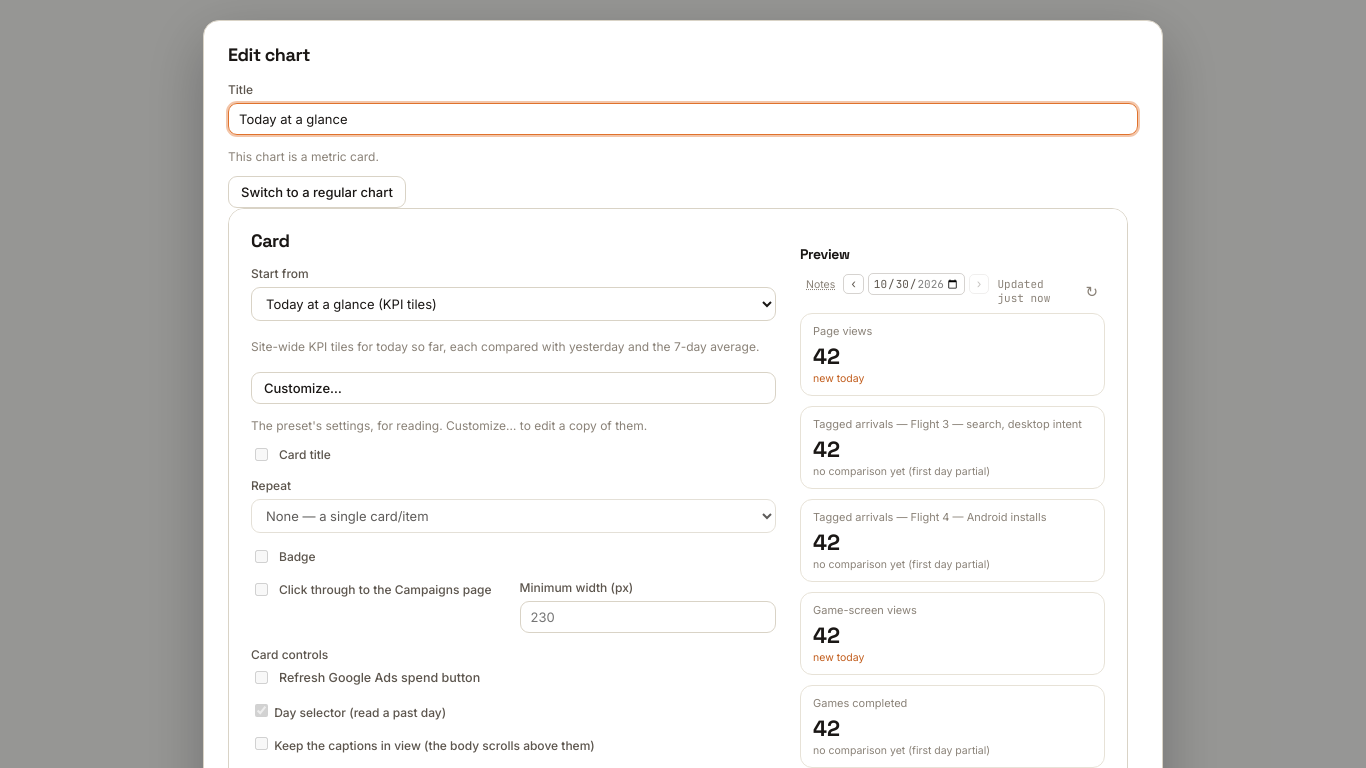
Test: Save is disabled while the card is invalid (review fix, 2026-09-27) › disables Save with a visible reason while CardEditor reports errors, and re-enables once valid
This screenshot has width=1366, height=768.
Select "Blank card" in the dropdown labelled "Start from". click: (514, 304)
box: [251,287,776,321]
(page scrolled)
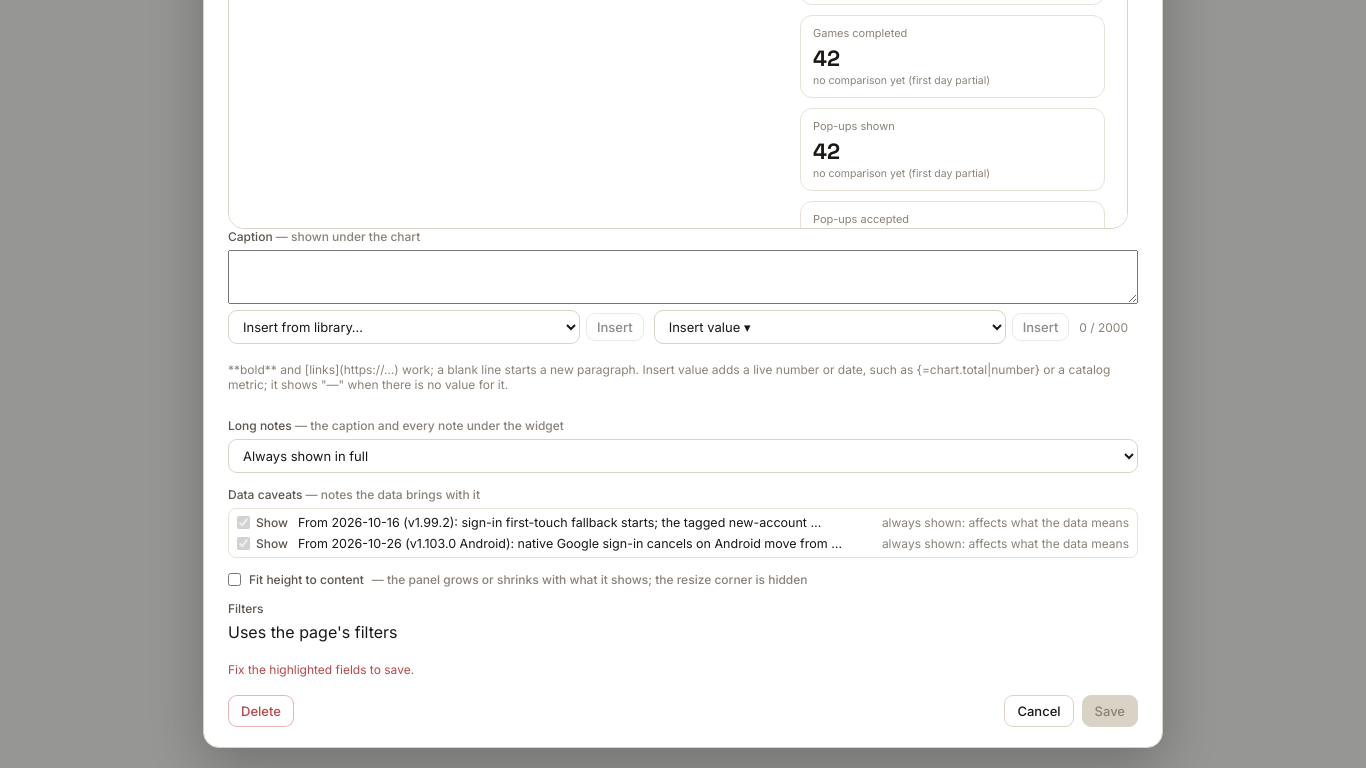
Expected: the button "Save" is disabled
Expected: the message with class "save-reason" reads "Fix the highlighted fields to save.", [228,662,414,677]
Click the button "Save". click: (1110, 711)
box: [1082,695,1138,727]
(page scrolled)
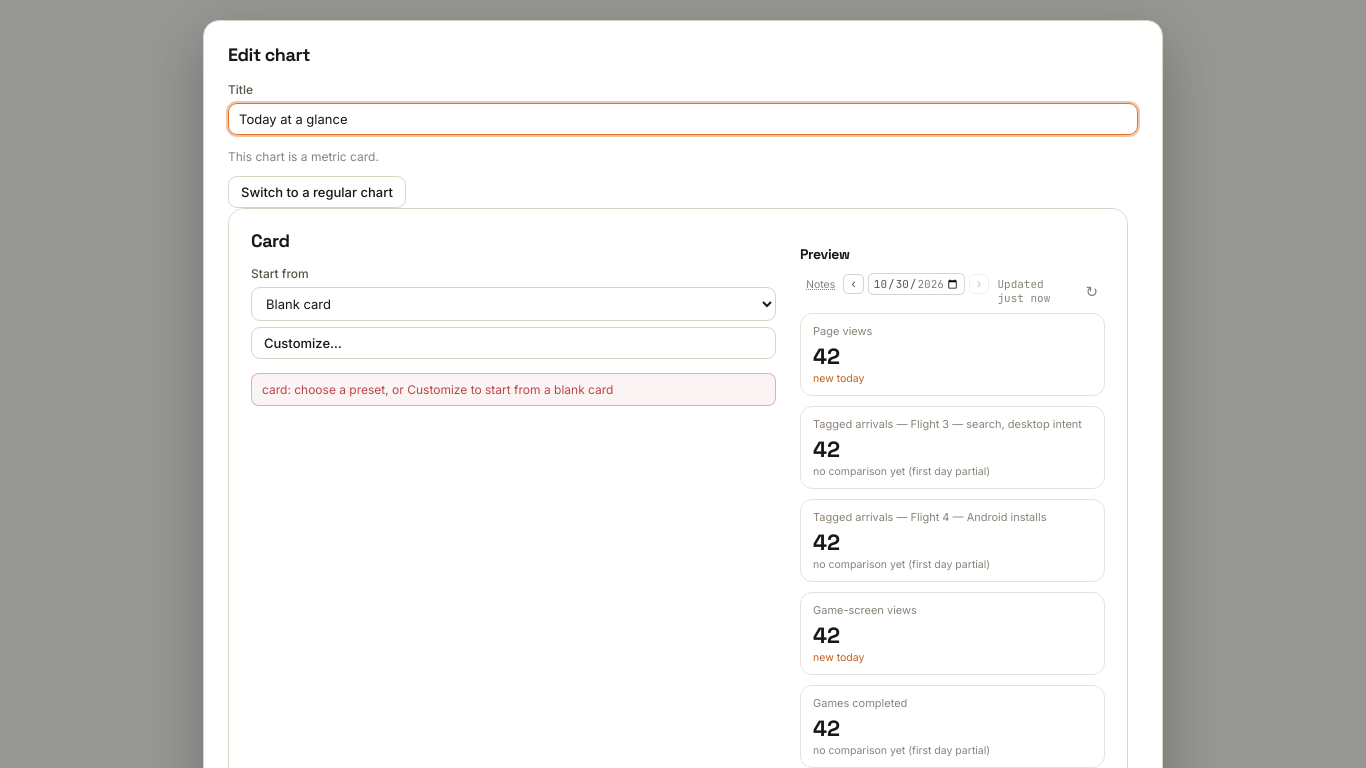
Select "Today at a glance (KPI tiles)" in the dropdown labelled "Start from". click: (514, 304)
box: [251,287,776,321]
(page scrolled)
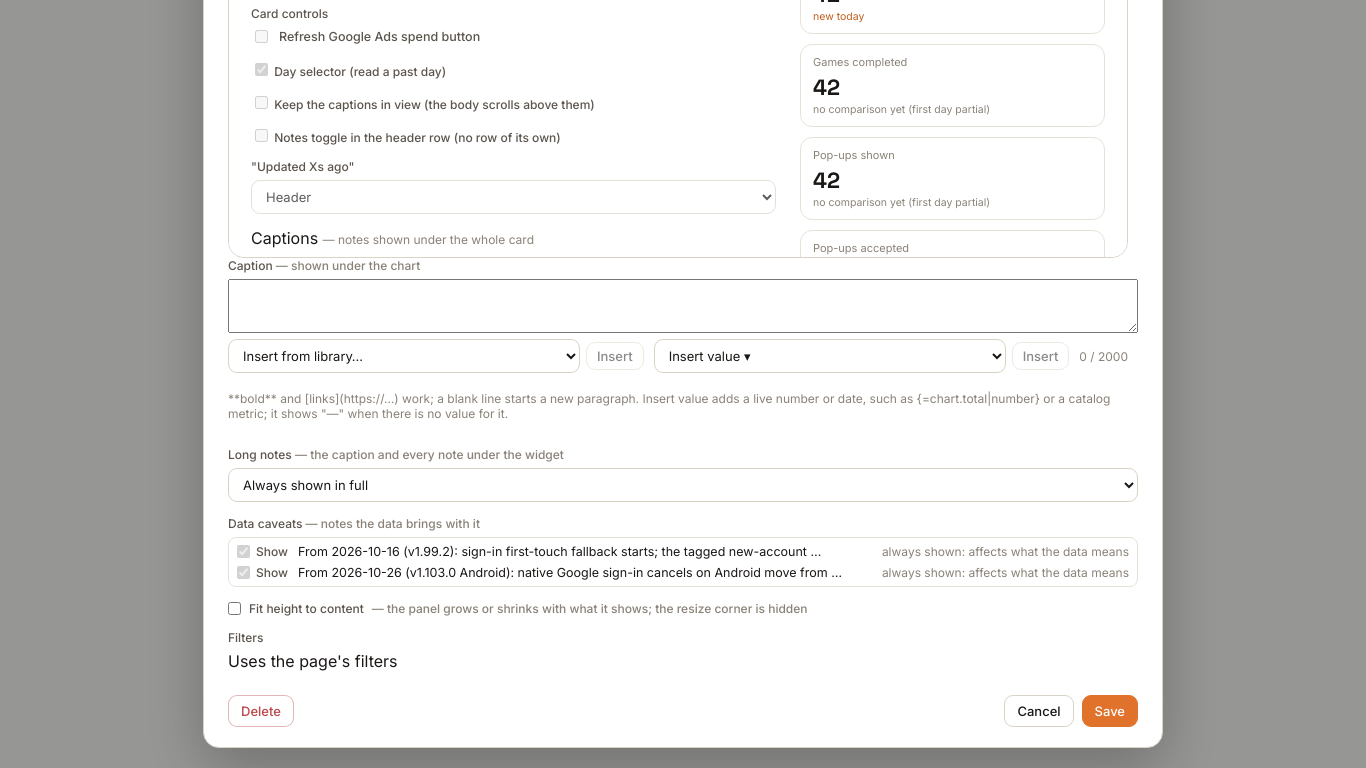
Expected: the button "Save" is enabled, [1082,695,1138,727]
